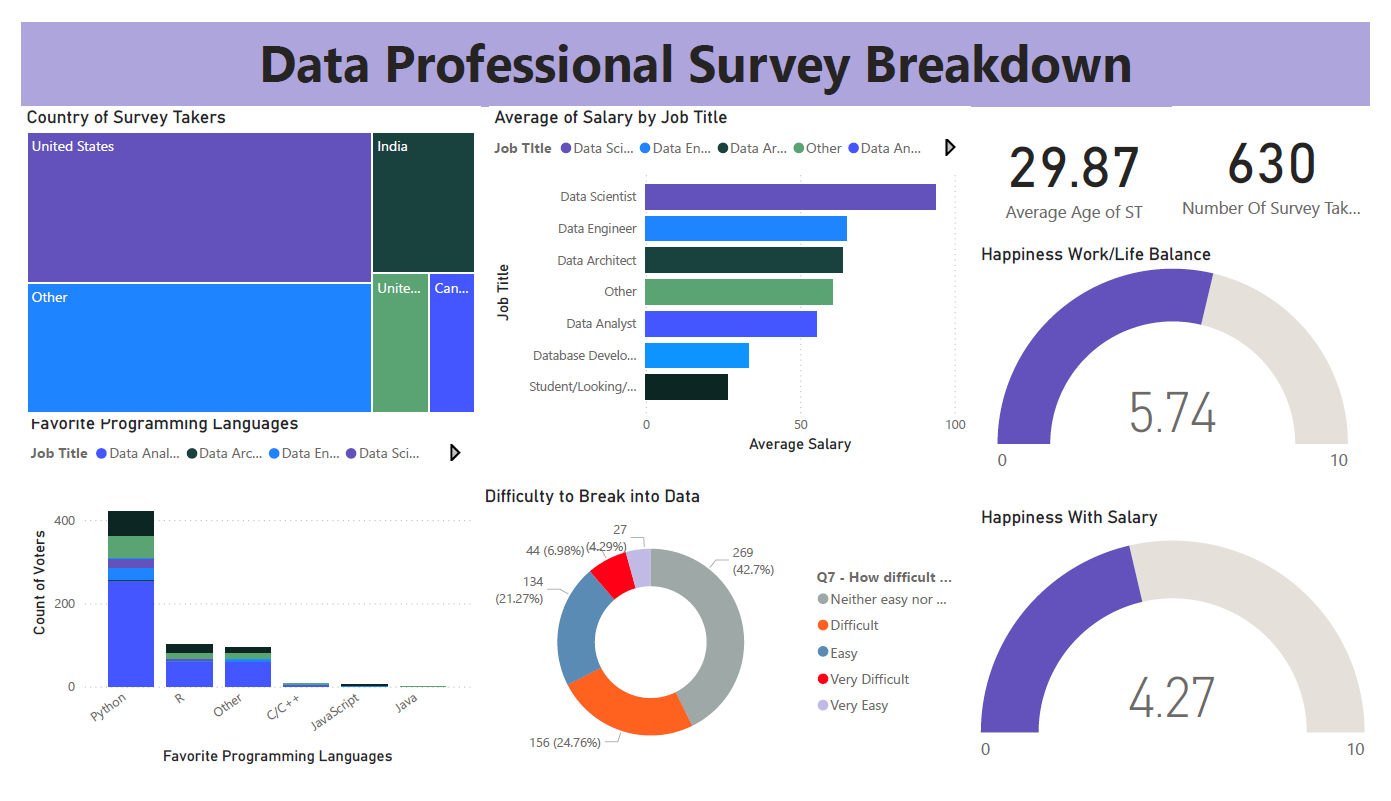

The page's visual inventory and layout, read from the dashboard file:
{"tool":"powerbi","page":{"name":"Page 1","canvas":[1280,720],"ordinal":0},"visuals":[{"type":"textbox","box":[0,0,1280.3,79.7],"z":0},{"type":"card","fields":{"Values":["CountNonNull(Data Professional Survey.Unique ID)"]},"box":[1093,80.3,187.3,114.1],"z":1000},{"type":"card","fields":{"Values":["Avg(Data Professional Survey.Q10 - Current Age)"]},"box":[905.6,83.1,187.3,115.5],"z":2000},{"type":"barChart","title":"Average of Salary by Job Title","fields":{"Category":["Data Professional Survey.Q1 - Which Title Best Fits your Current Role?.1"],"Y":["Avg(Data Professional Survey.Average Salary)"],"Series":["Data Professional Survey.Q1 - Which Title Best Fits your Current Role?.1"]},"box":[443.7,80.3,457.7,332.7],"z":3000},{"type":"columnChart","title":"Favorite Programming Languages","fields":{"Category":["Data Professional Survey.Q5 - Favorite Programming Language.1"],"Y":["CountNonNull(Data Professional Survey.Unique ID)"],"Series":["Data Professional Survey.Q1 - Which Title Best Fits your Current Role?.1"]},"box":[4.2,370.4,426.5,338.6],"z":4000},{"type":"treemap","title":"Country of Survey Takers","fields":{"Group":["Data Professional Survey.Q11 - Which Country do you live in?.1"],"Values":["CountNonNull(Data Professional Survey.Q11 - Which Country do you live in?.1)"]},"box":[0,80.3,435.8,296.1],"z":5000},{"type":"gauge","title":"Happiness Work/Life Balance","fields":{"Y":["Avg(Data Professional Survey.Q6 - How Happy are you in your Current Position with the following? (Work/Life Balance))"],"MinValue":["Min(Data Professional Survey.Q6 - How Happy are you in your Current Position with the following? (Work/Life Balance))1"],"MaxValue":["Max(Data Professional Survey.Q6 - How Happy are you in your Current Position with the following? (Work/Life Balance))2"]},"box":[905.6,209.9,374.6,226.8],"z":6000},{"type":"gauge","title":"Happiness With Salary","fields":{"Y":["Avg(Data Professional Survey.Q6 - How Happy are you in your Current Position with the following? (Salary))"],"MinValue":["Min(Data Professional Survey.Q6 - How Happy are you in your Current Position with the following? (Salary))1"],"MaxValue":["Max(Data Professional Survey.Q6 - How Happy are you in your Current Position with the following? (Salary))2"]},"box":[905.6,459.2,374.6,260.6],"z":7000},{"type":"donutChart","title":"Difficulty to Break into Data ","fields":{"Category":["Data Professional Survey.Q7 - How difficult was it for you to break into Data?"],"Y":["CountNonNull(Data Professional Survey.Q7 - How difficult was it for you to break into Data?)"]},"box":[435.2,439.4,459.4,279.1],"z":8000}]}

Visuals, with their boxes in screenshot pixels (x1, y1, x2, y2), scaled from the page's 1280x720 canvas onto the 1391x801 screenshot:
textbox: [left=0, top=0, right=1390, bottom=89]
card - CountNonNull(Data Professional Survey.Unique ID): [left=1188, top=89, right=1390, bottom=216]
card - Avg(Data Professional Survey.Q10 - Current Age): [left=984, top=92, right=1188, bottom=221]
"Average of Salary by Job Title" barChart: [left=482, top=89, right=980, bottom=459]
"Favorite Programming Languages" columnChart: [left=5, top=412, right=468, bottom=789]
"Country of Survey Takers" treemap: [left=0, top=89, right=474, bottom=419]
"Happiness Work/Life Balance" gauge: [left=984, top=234, right=1390, bottom=486]
"Happiness With Salary" gauge: [left=984, top=511, right=1390, bottom=800]
"Difficulty to Break into Data " donutChart: [left=473, top=489, right=972, bottom=799]
